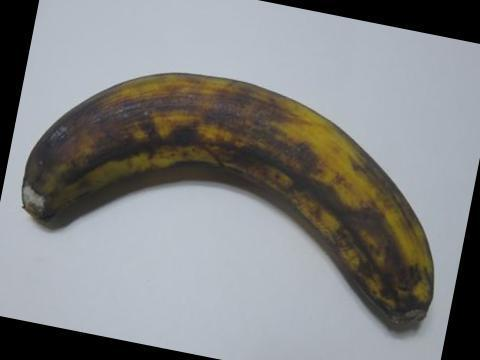overripe: (3, 70, 449, 334)
rotten: (3, 127, 104, 232)
